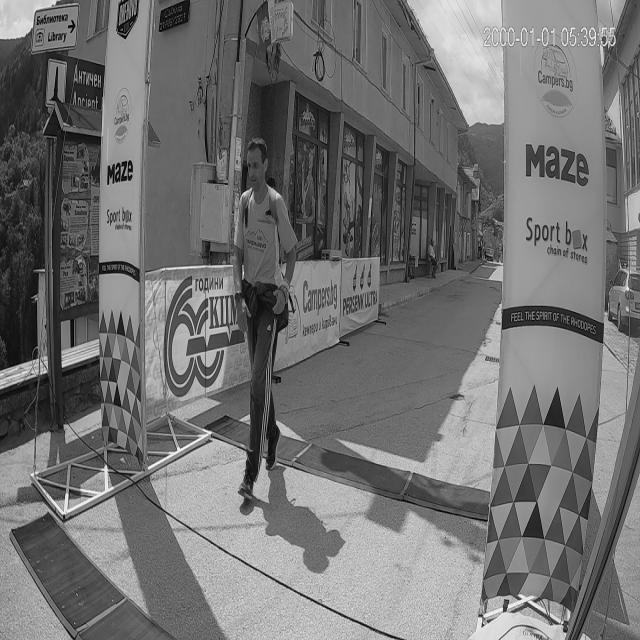runner: (212, 126, 300, 514)
